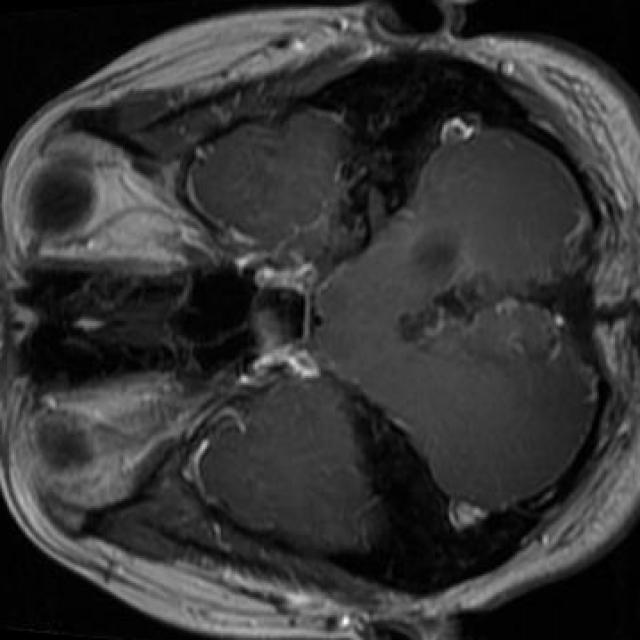glioma: (399, 230, 567, 358)
